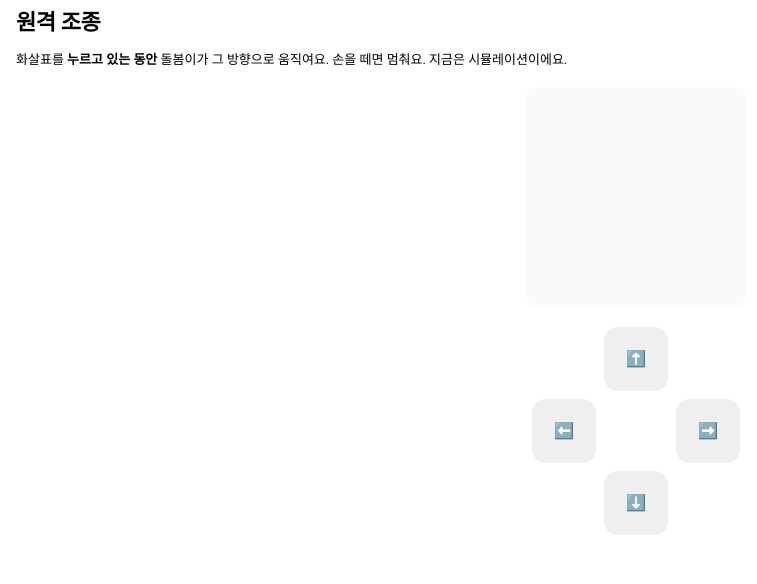
Test case: 423이면 응급 중이라는 것을 화면에 알린다
The width and height of the screenshot is (757, 584).
Press the mouse on the button "⬆️" at (636, 359), box [604, 327, 668, 391]
Wait 50 ms
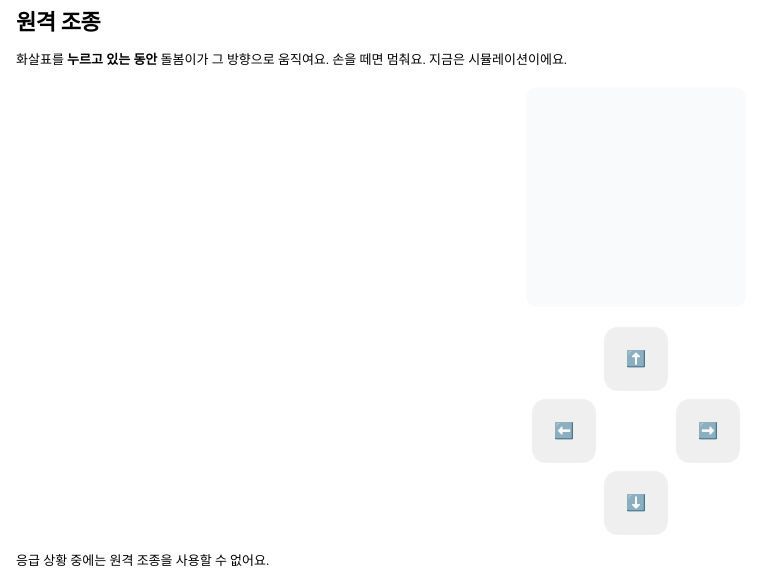
Result: the text "응급 상황 중에는 원격 조종을 사용할 수 없어요." is shown at [16, 553, 269, 568]
